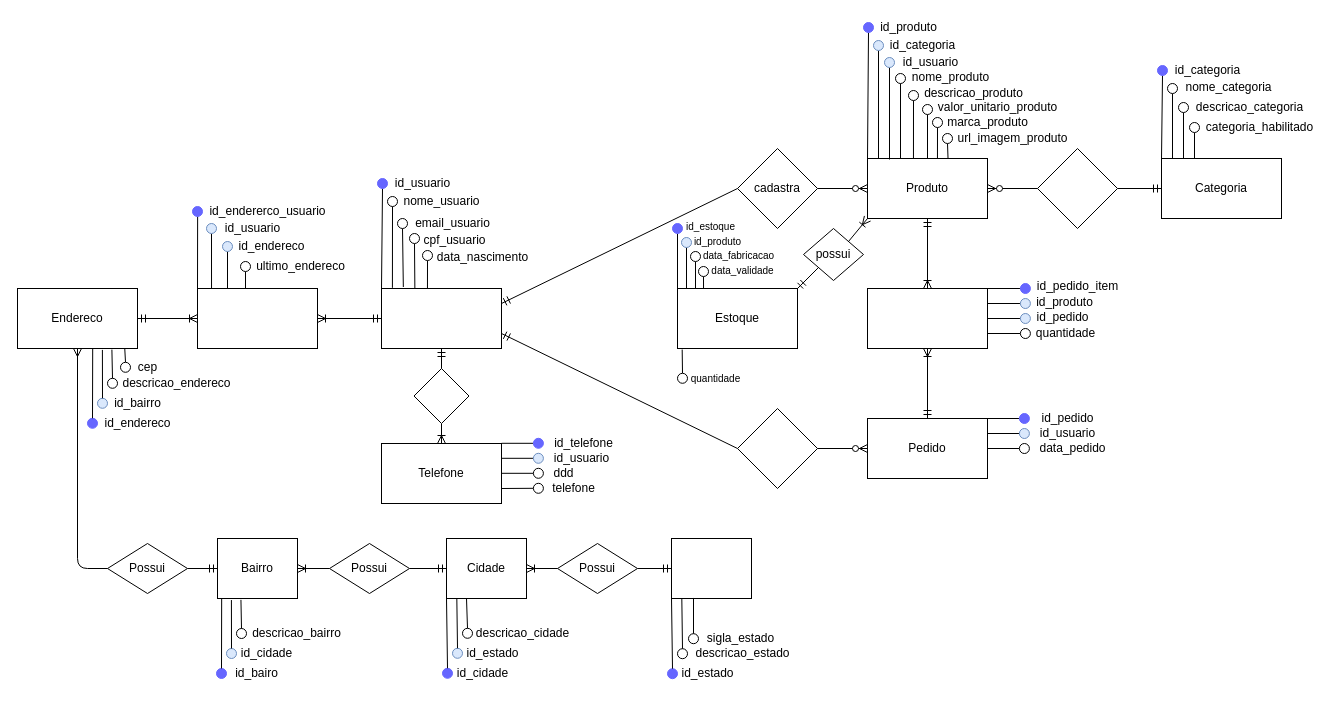
Image size: 1337x701. Some labels were removed from this diagram. Here are the shapes that lost their labels. From the top down, the centre of each, then its label:
At pixel 1077 188: "pertence".
At pixel 257 318: "Endereco_Usuario".
At pixel 441 318: "Usuario".
At pixel 927 318: "Pedido_Item".
At pixel 441 396: "tem".
At pixel 777 448: "realiza".
At pixel 711 568: "Estado".
